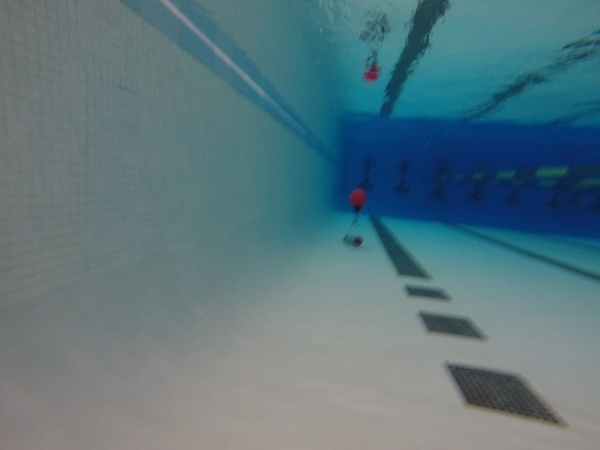buoy_red: (348, 189, 367, 212)
